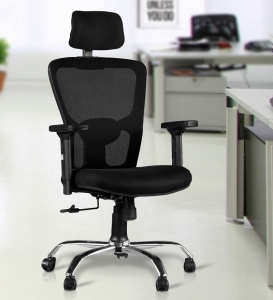chair: (47, 10, 199, 293)
